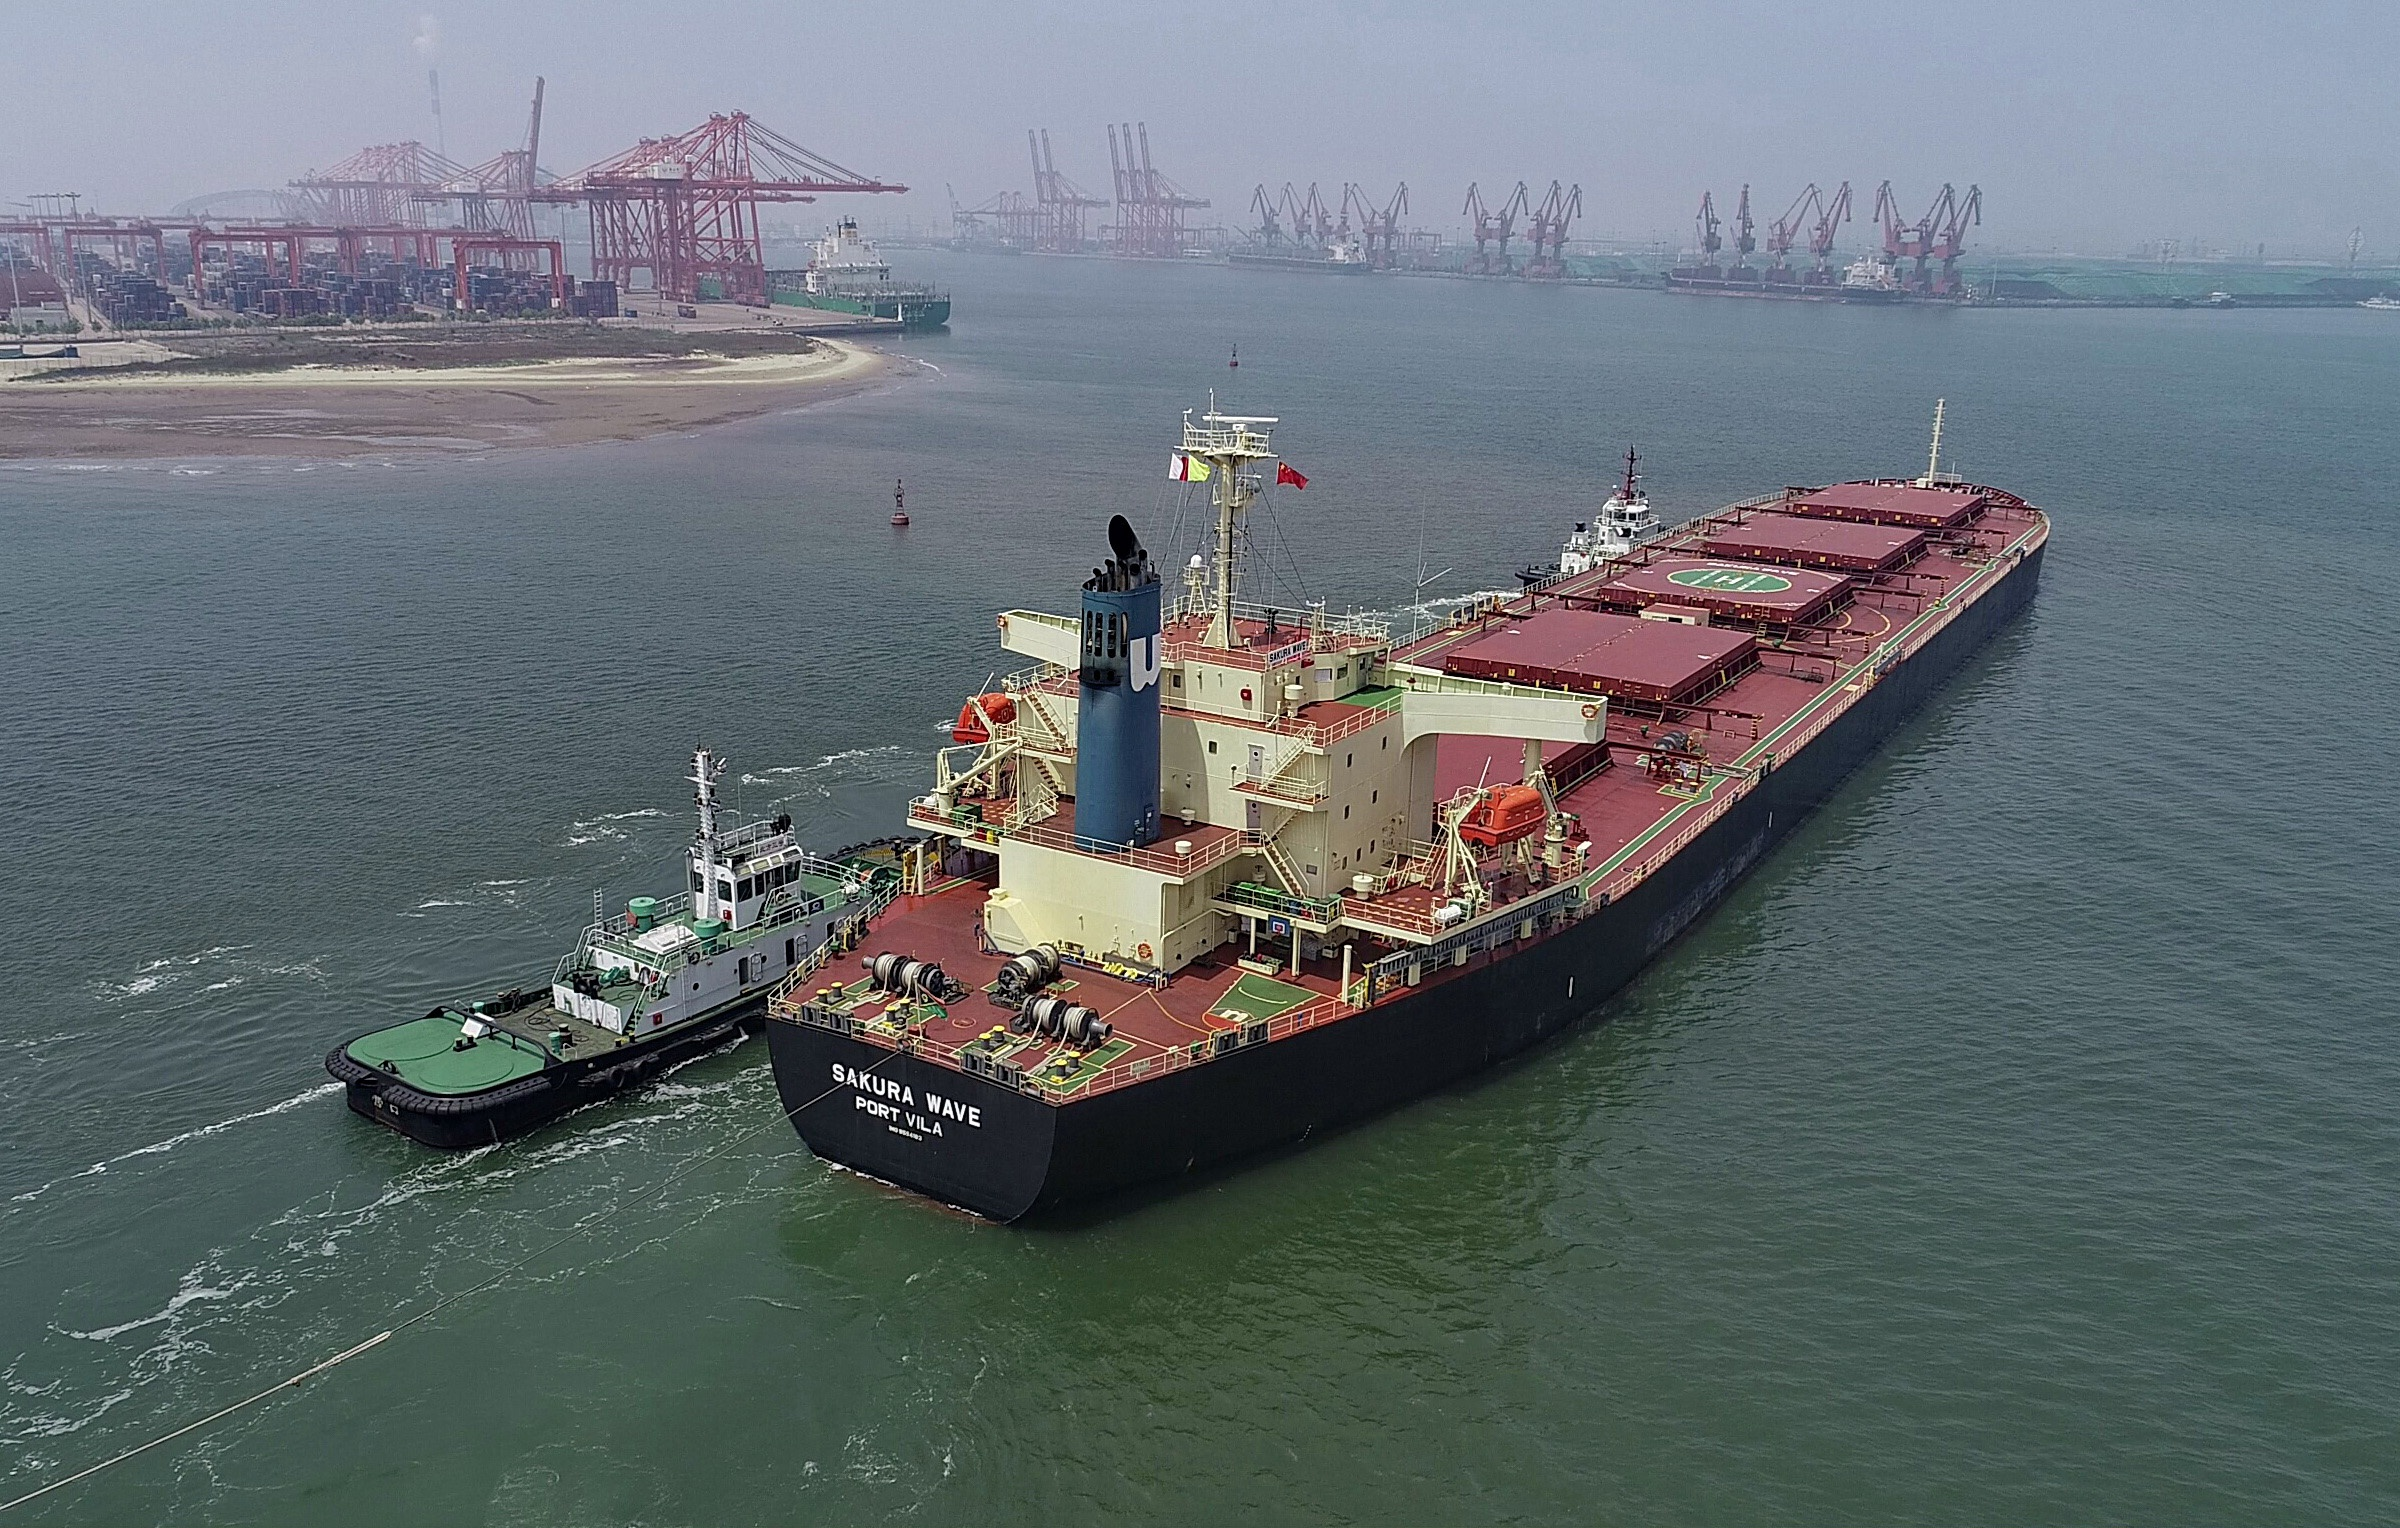Cargoship: (714, 353, 2068, 1240)
otherboat: (296, 761, 957, 1147), (1490, 446, 1681, 593)
